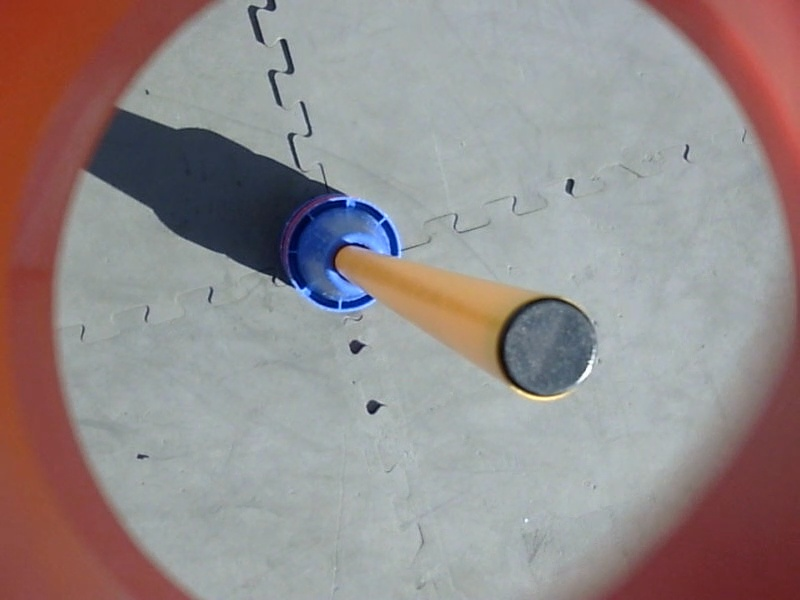tip: (488, 289, 604, 408)
